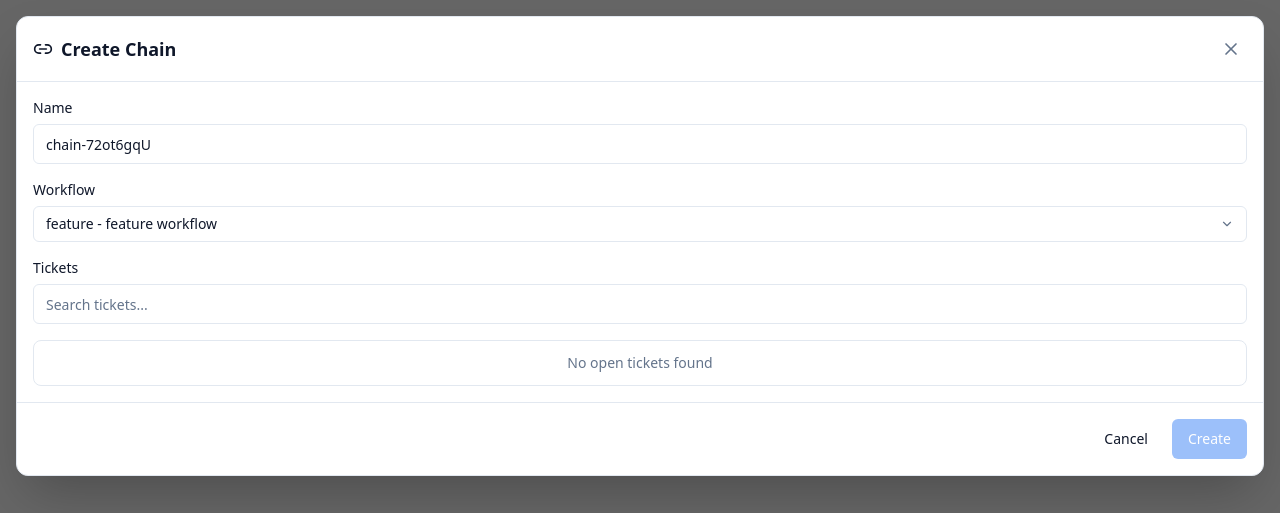
it: CreateChainDialog - Create Mode › shows all ticket-scoped workflows in selector
// Open the dropdown to see options
What coordinates should you click on to do the following:
click the button "feature - feature workflow"
I would click on:
 (132, 224)
Its box is [33, 206, 1247, 242].
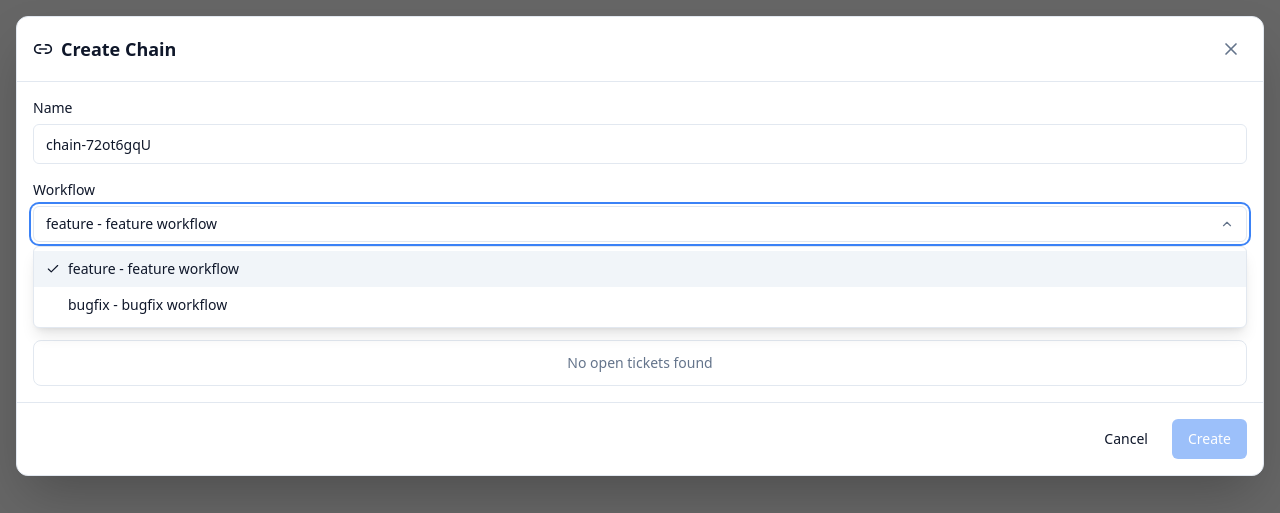
Now the text "bugfix - bugfix workflow" is shown, box [68, 295, 227, 315]
